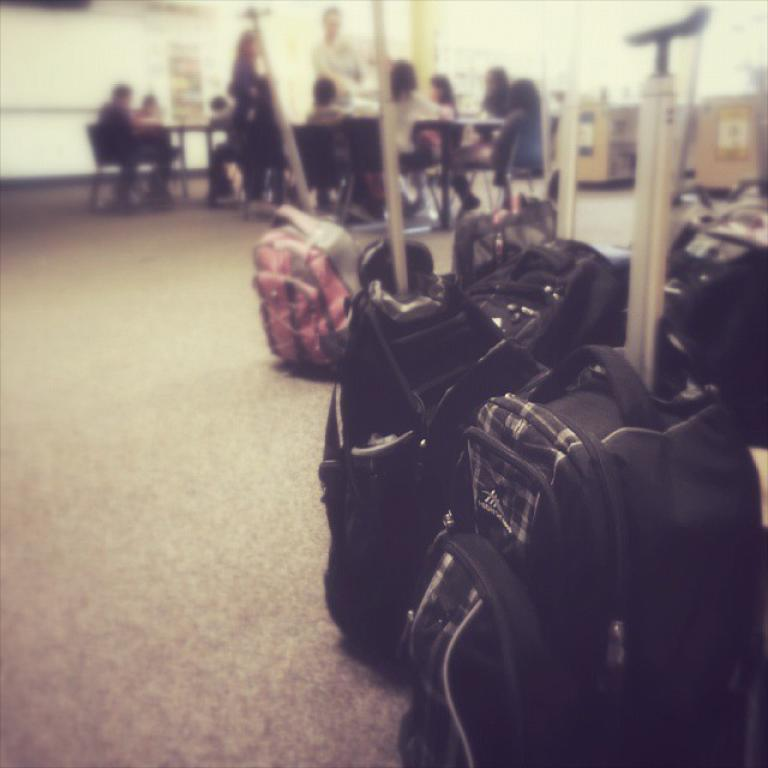Luggage-and-bags: (397, 2, 767, 767)
